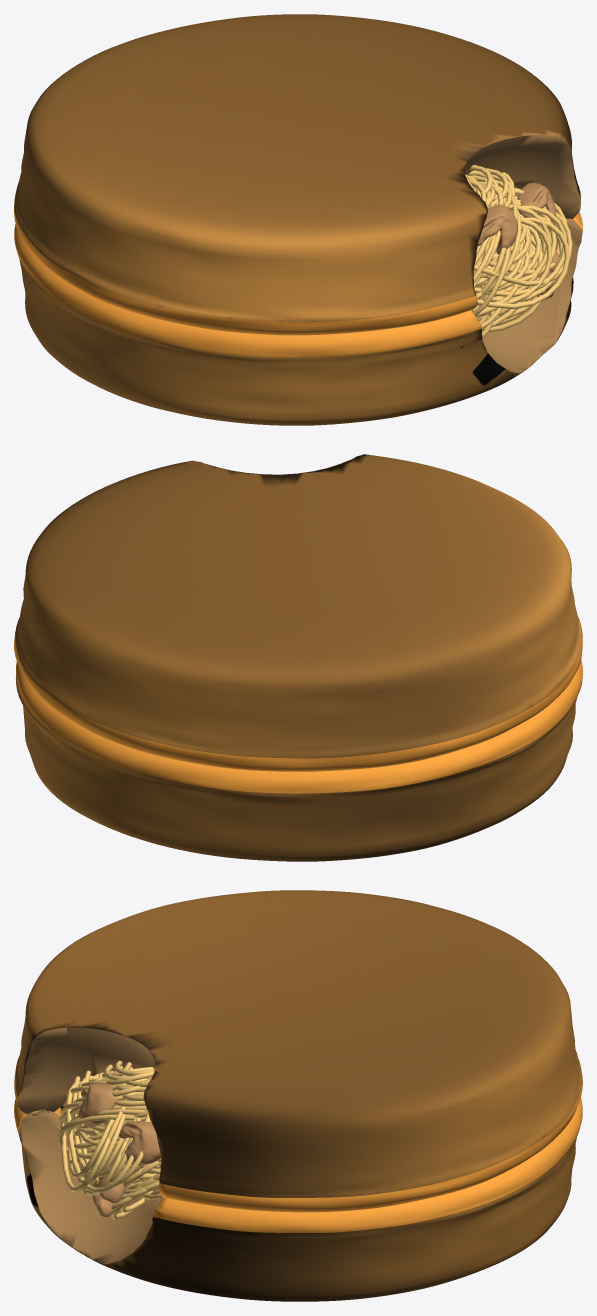
The model's file is big1.glb.
3 views of the same model, one above another, from view 1: azimuth 30°, elevation 25°; view 2: azimuth 150°, elevation 25°; view 3: azimuth 270°, elevation 25° (orthographic).
Visible parts, largest first — view 1: Cylinder, BézierCurve.002, BézierCurve.001, Cube, BézierCurve.003, Cube.002; view 2: Cylinder; view 3: Cylinder, BézierCurve.001, BézierCurve.002, BézierCurve.003, Cube.002, Cube, Cube.001.
Boxes of the visible parts, bbox=[...] form: Cylinder: bbox=[14, 14, 582, 425]; BézierCurve.002: bbox=[467, 171, 569, 338]; BézierCurve.001: bbox=[468, 165, 572, 329]; Cube: bbox=[477, 204, 517, 254]; BézierCurve.003: bbox=[465, 174, 562, 325]; Cube.002: bbox=[517, 183, 556, 227]; Cylinder: bbox=[14, 454, 582, 861]; Cylinder: bbox=[14, 890, 582, 1301]; BézierCurve.001: bbox=[60, 1060, 162, 1210]; BézierCurve.002: bbox=[57, 1067, 159, 1216]; BézierCurve.003: bbox=[73, 1076, 161, 1219]; Cube.002: bbox=[118, 1121, 161, 1165]; Cube: bbox=[78, 1083, 115, 1126]; Cube.001: bbox=[92, 1166, 125, 1216].
Size of the model in its own units: 2.33 by 0.915 by 2.33.
5 materials, 1 textured.
